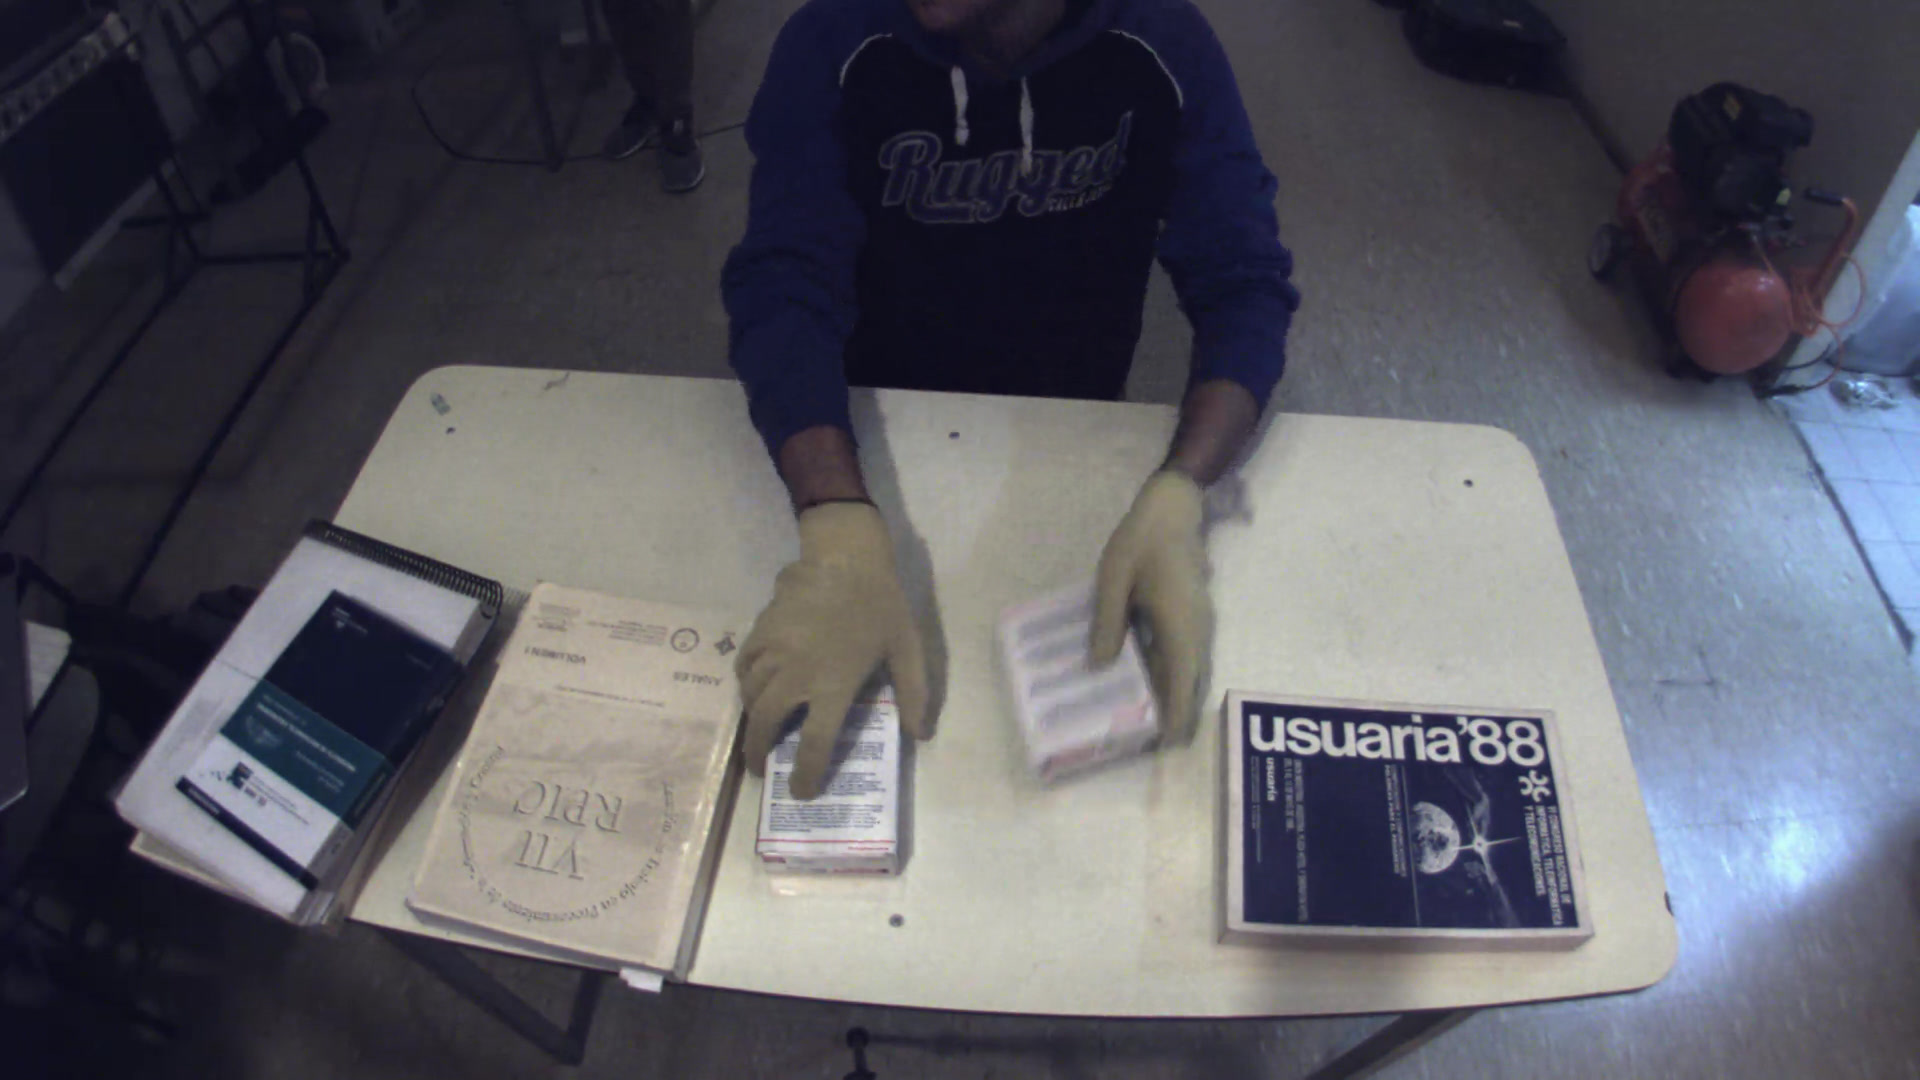hand: (717, 495, 934, 810), (1080, 468, 1226, 750)
